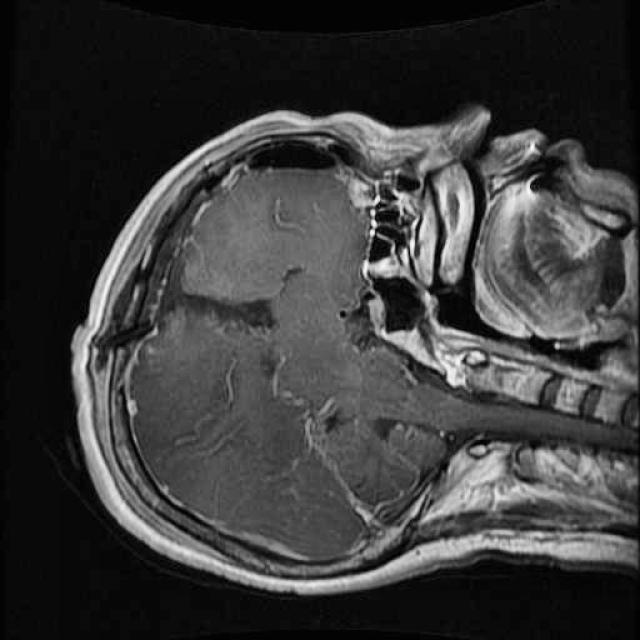Non-Tumor: (114, 226, 295, 365)
